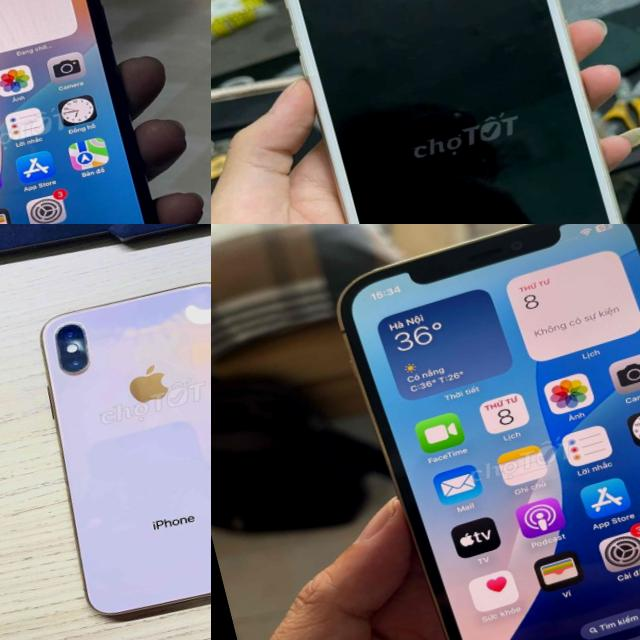gen_12_13: (318, 224, 640, 640)
gen_6: (263, 0, 640, 224)
gen_x_xs: (7, 266, 211, 640), (0, 0, 194, 224)
